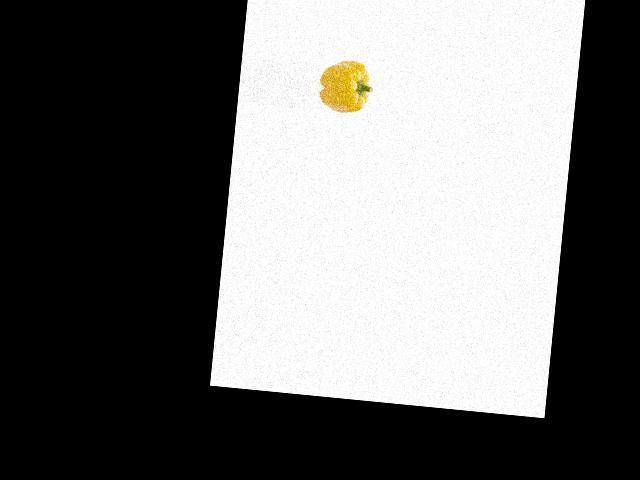bell_pepper: (316, 54, 377, 114)
